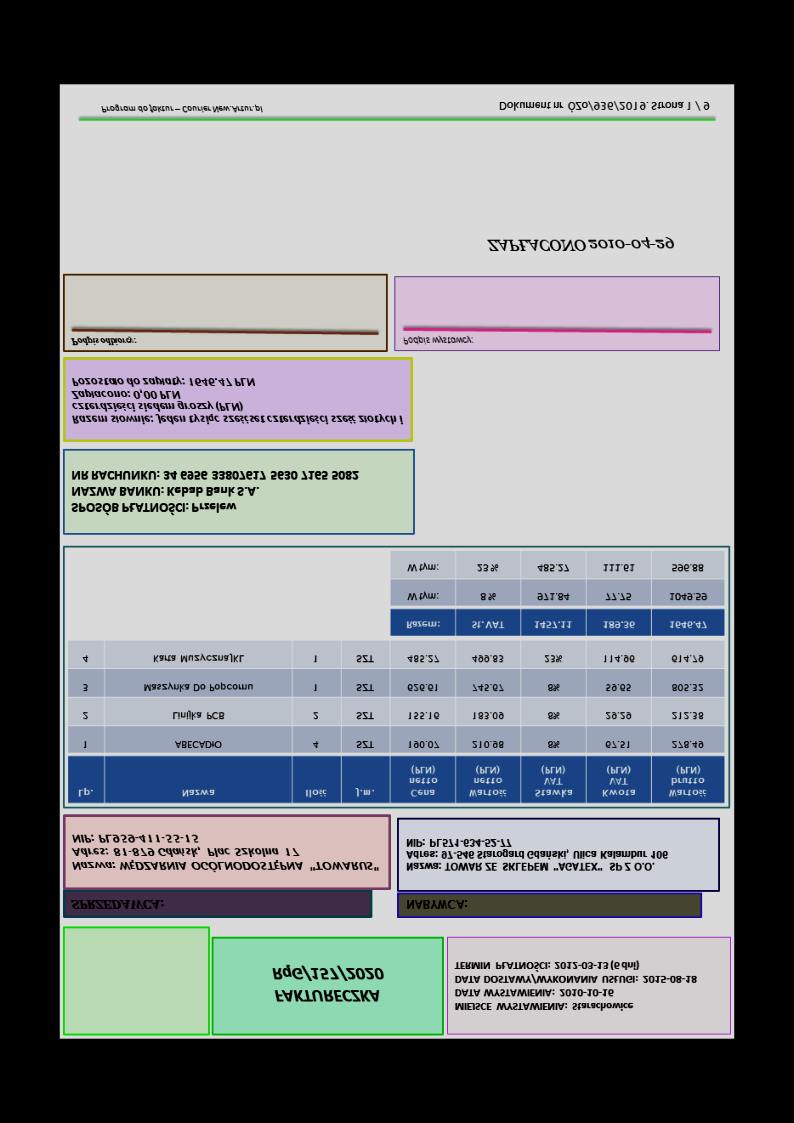Table: (66, 640, 725, 805), (388, 551, 726, 637)
TextBox: (69, 375, 406, 427), (68, 467, 361, 516), (452, 960, 699, 1012), (69, 832, 380, 873), (404, 837, 669, 873), (270, 961, 385, 1005), (485, 234, 676, 254), (497, 99, 711, 112), (98, 102, 264, 116), (68, 898, 165, 911), (404, 896, 469, 912), (401, 334, 474, 347), (69, 336, 139, 349)
